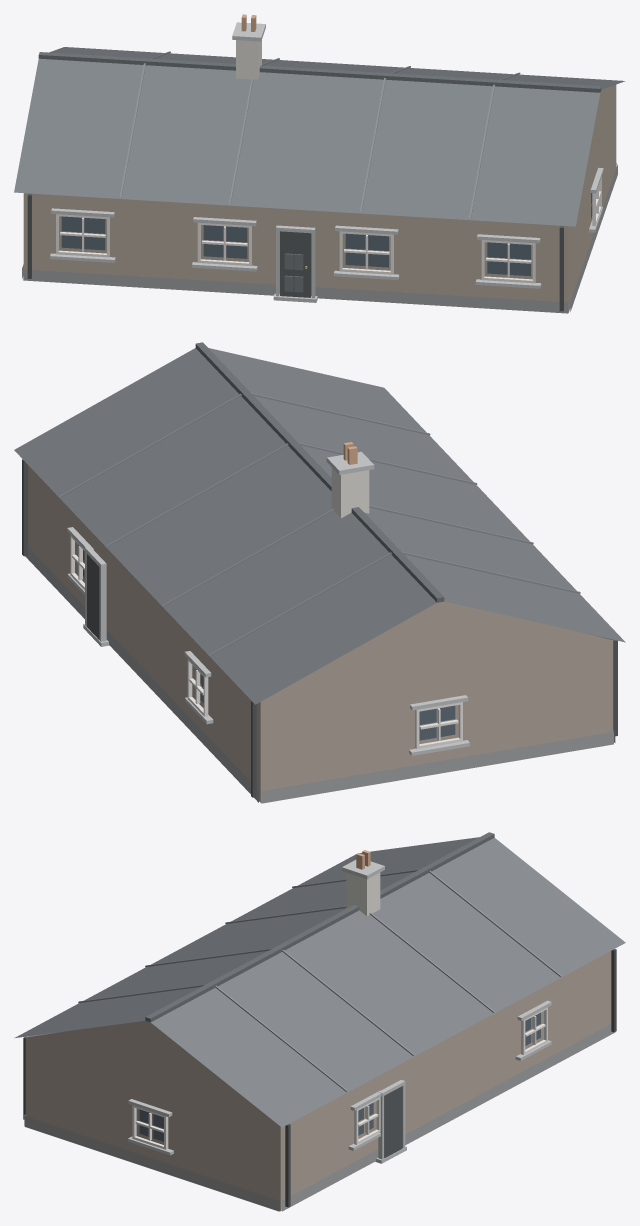
3 renders of one model, top to bottom at view 1: azimuth 30°, elevation 25°; view 2: azimuth 150°, elevation 25°; view 3: azimuth 270°, elevation 25°, orthographic. The views are drawn at different scales.
Visible parts, largest first — view 1: slate, harl_brown, plinth, stone_band, slate_dk, frame, slate_lt, door_dark, chim_render, pipe, door_dark_p; view 2: slate, harl_brown, plinth, slate_lt, stone_band, slate_dk, frame, pipe, chim_render, door_dark; view 3: slate, harl_brown, plinth, slate_dk, slate_lt, stone_band, frame, pipe, chim_render, door_dark.
Part boxes in pixels (x1,y1,x2,y2): slate: (14,47,625,226); harl_brown: (23,84,616,312); plinth: (22,163,617,313); stone_band: (50,22,603,302); slate_dk: (38,52,601,92); frame: (56,176,601,283); slate_lt: (119,51,520,219); door_dark: (280,231,311,297); chim_render: (236,40,261,79); pipe: (27,194,563,311); door_dark_p: (284,253,303,292); slate: (14,348,625,704); harl_brown: (28,465,613,802); plinth: (25,547,615,803); slate_lt: (59,393,580,656); stone_band: (67,451,469,755); slate_dk: (195,342,444,602); frame: (70,535,462,748); pipe: (22,459,617,797); chim_render: (331,467,369,518); door_dark: (86,554,99,639); slate: (14,837,625,1127); harl_brown: (25,951,611,1211); plinth: (24,1024,615,1211); slate_dk: (145,832,494,1022); slate_lt: (78,869,561,1091); stone_band: (128,860,551,1163); frame: (132,1007,547,1149); pipe: (23,949,616,1207); chim_render: (346,872,380,915); door_dark: (384,1086,402,1157).
Bounding box in the file's own units: 18.93 × 6.54 × 17.84.
